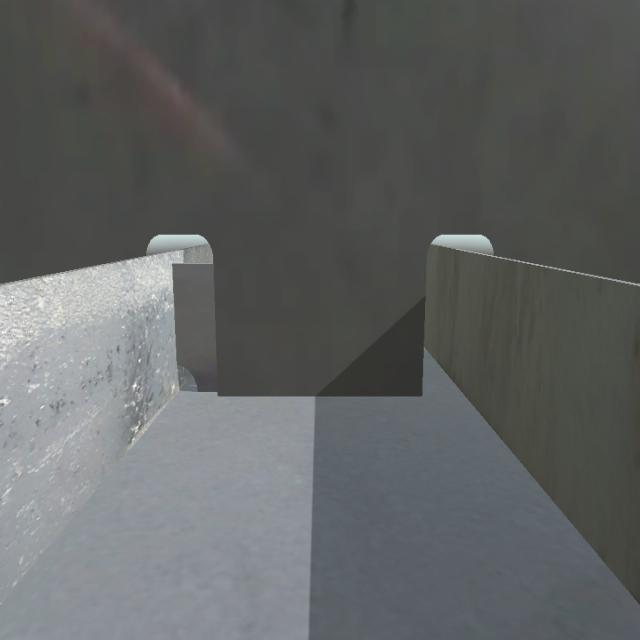fillet_hole: (176, 355, 203, 398)
fillet_yong_jeop_jang: (199, 384, 425, 404)
longi_yong_jeop_jang: (166, 259, 179, 397)
plate_behind: (171, 259, 217, 394)
